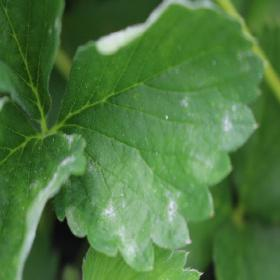Powdery Mildew Leaf: (53, 0, 267, 272), (0, 95, 88, 279)
